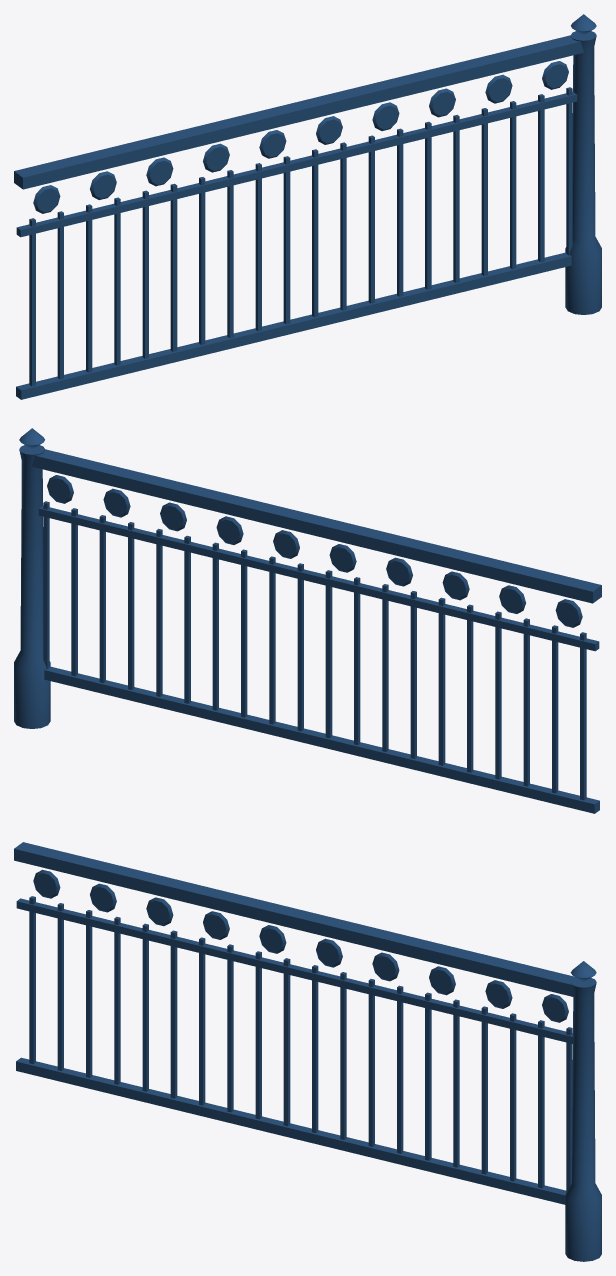
File: SM_Prop_coast_promrail_0.glb
3 renders of one model, top to bottom at view 1: azimuth 30°, elevation 25°; view 2: azimuth 150°, elevation 25°; view 3: azimuth 330°, elevation 25°, orthographic.
Visible parts, largest first — view 1: SM_Prop_coast_promrail_0; view 2: SM_Prop_coast_promrail_0; view 3: SM_Prop_coast_promrail_0.
Boxes of the visible parts, <box> form: SM_Prop_coast_promrail_0: <box>14,14,601,399</box>; SM_Prop_coast_promrail_0: <box>14,428,601,813</box>; SM_Prop_coast_promrail_0: <box>14,842,601,1261</box>.
Size of the model in its own units: 2.57 by 1.24 by 0.14.
